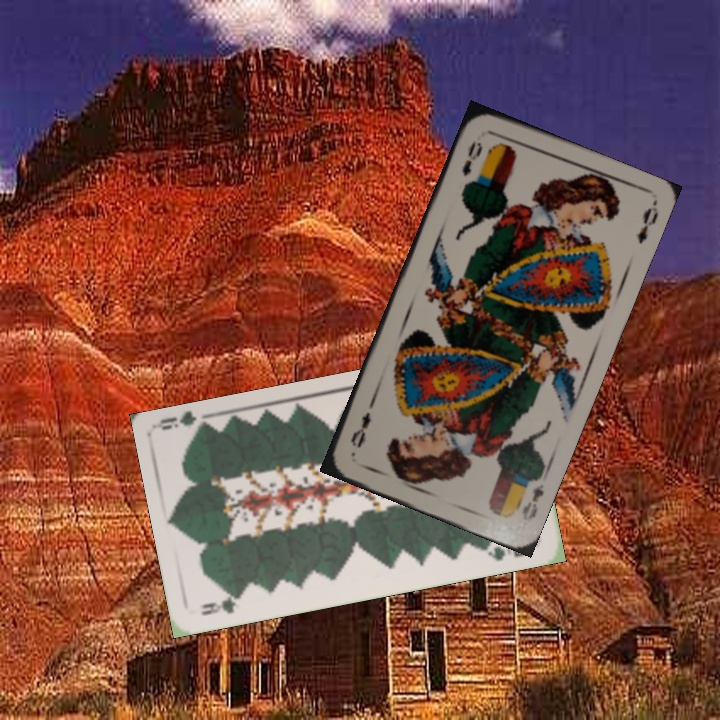EO: (518, 480, 547, 524), (458, 137, 485, 179)
G9: (197, 589, 246, 618)
